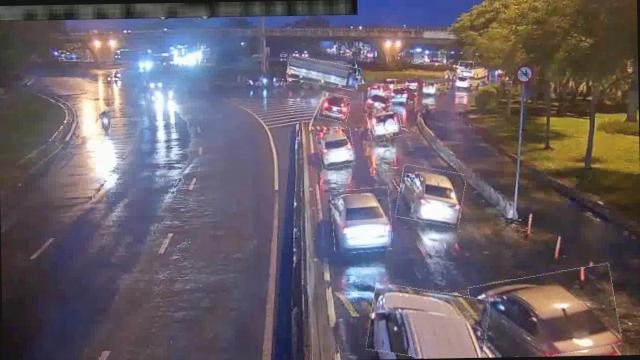Bike: (98, 107, 110, 133)
Car: (471, 267, 620, 357), (368, 285, 490, 359), (331, 187, 392, 252), (398, 166, 466, 224), (318, 128, 356, 167), (368, 108, 402, 140), (319, 92, 350, 121), (366, 90, 391, 112)
Truck: (286, 56, 360, 88)
